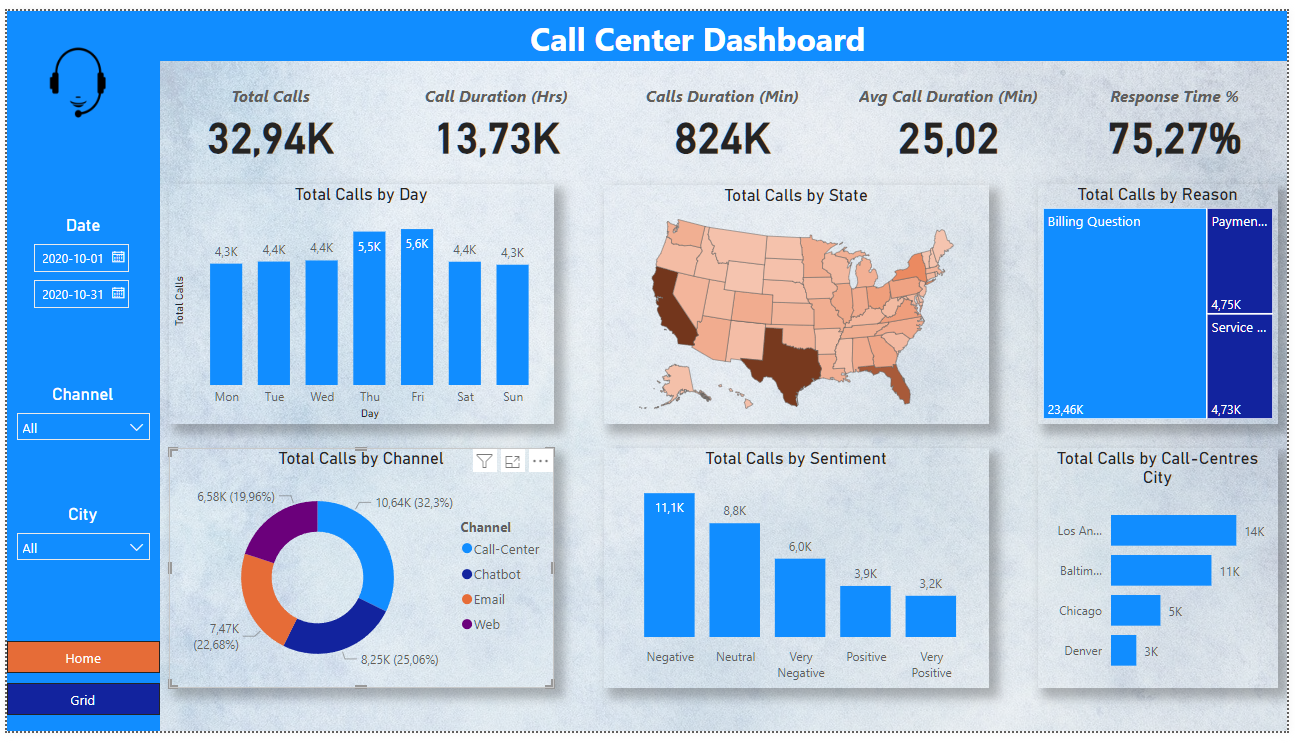

The page's visual inventory and layout, read from the dashboard file:
{"tool":"powerbi","page":{"name":"Home","canvas":[1280,720],"ordinal":0},"visuals":[{"type":"shape","box":[0,0,1280,50],"z":0},{"type":"shape","box":[0,49.6,152.6,670.6],"z":1000},{"type":"cardVisual","fields":{"Data":["Key Measures.Total Calls","Key Measures.Call Duration (hours)","Key Measures.Calls Duration (Min)","Key Measures.Avg Call Duration","Key Measures.Response Time %"]},"box":[152.6,49.6,1127.4,123.4],"z":2000},{"type":"textbox","box":[487.1,0,418,56.6],"z":3000},{"type":"columnChart","fields":{"Category":["Date Table.Day"],"Y":["Key Measures.Total Calls"]},"box":[162,173,385,240],"z":4000},{"type":"shapeMap","fields":{"Category":["Call Center.State"],"Value":["Key Measures.Total Calls"]},"box":[596.5,174,385,239],"z":5000},{"type":"treemap","fields":{"Values":["Key Measures.Total Calls"],"Group":["Call Center.Reason"]},"box":[1031,173,240,240],"z":6000},{"type":"donutChart","fields":{"Category":["Call Center.Channel"],"Y":["Key Measures.Total Calls"]},"box":[162,437,385,240],"z":7000},{"type":"columnChart","fields":{"Category":["Call Center.Sentiment"],"Y":["Key Measures.Total Calls"]},"box":[597,437,385,240],"z":8000},{"type":"clusteredBarChart","fields":{"Y":["Key Measures.Total Calls"],"Category":["Call Center.Call-Centres City"]},"box":[1031,437,240,240],"z":9000},{"type":"slicer","title":"Date","fields":{"Values":["Date Table.Date"]},"box":[14,204,126,120],"z":10000},{"type":"slicer","title":"Channel","fields":{"Values":["Call Center.Channel"]},"box":[0,373,153,63],"z":11000},{"type":"slicer","title":"City","fields":{"Values":["Call Center.City"]},"box":[0,493,153,70],"z":12000},{"type":"image","box":[0,0,144,144],"z":13000},{"type":"pageNavigator","box":[0,630,153,74],"z":14000}]}

Visuals, with their boxes in screenshot pixels (x1, y1, x2, y2), scaled from the page's 1280x720 canvas onto the 1295x743 screenshot:
shape: detection(0, 0, 1294, 52)
shape: detection(0, 51, 154, 742)
cardVisual - Key Measures.Total Calls x Key Measures.Call Duration (hours): detection(154, 51, 1294, 179)
textbox: detection(493, 0, 916, 58)
columnChart - Date Table.Day x Key Measures.Total Calls: detection(164, 179, 553, 426)
shapeMap - Call Center.State x Key Measures.Total Calls: detection(603, 180, 993, 426)
treemap - Key Measures.Total Calls x Call Center.Reason: detection(1043, 179, 1286, 426)
donutChart - Call Center.Channel x Key Measures.Total Calls: detection(164, 451, 553, 699)
columnChart - Call Center.Sentiment x Key Measures.Total Calls: detection(604, 451, 994, 699)
clusteredBarChart - Key Measures.Total Calls x Call Center.Call-Centres City: detection(1043, 451, 1286, 699)
"Date" slicer: detection(14, 211, 142, 334)
"Channel" slicer: detection(0, 385, 155, 450)
"City" slicer: detection(0, 509, 155, 581)
image: detection(0, 0, 146, 149)
pageNavigator: detection(0, 650, 155, 726)
